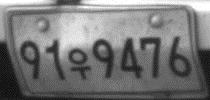1: (45, 39, 66, 83)
4: (118, 36, 144, 81)
6: (167, 36, 191, 79)
7: (138, 36, 162, 79)
9: (17, 40, 41, 81), (92, 39, 114, 81)
우: (67, 47, 93, 80)
